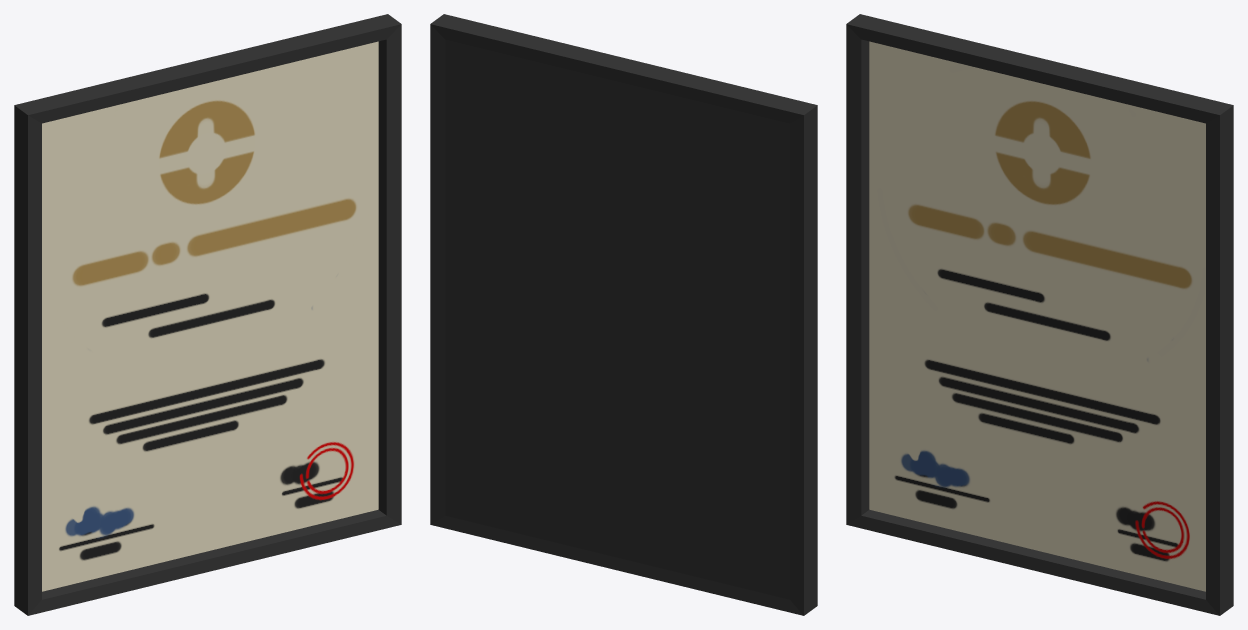
File: Certifacte.gltf
3 renders of one model, left to right at view 1: azimuth 30°, elevation 25°; view 2: azimuth 150°, elevation 25°; view 3: azimuth 330°, elevation 25°, orthographic.
Parts seen in each view (by area): view 1: Frame_v2; view 2: Frame_v2; view 3: Frame_v2.
Boxes of the visible parts, x1=… form: Frame_v2: x1=14, y1=14, x2=401, y2=615; Frame_v2: x1=430, y1=14, x2=817, y2=615; Frame_v2: x1=846, y1=14, x2=1233, y2=615.
Bounding box in the file's own units: 0.7424 × 0.9504 × 0.0473.
Materials: 2 (1 with a texture image).
